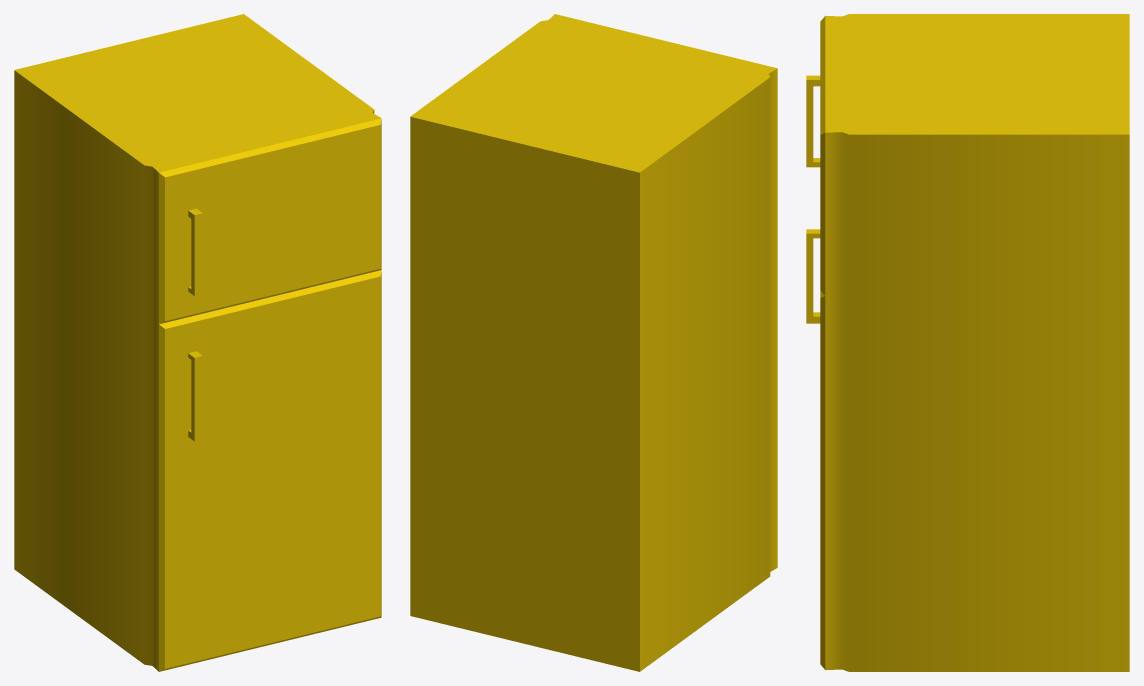
The model's file is Fridge_1.FBX.
3 views of the same model, side by side, from view 1: azimuth 30°, elevation 25°; view 2: azimuth 150°, elevation 25°; view 3: azimuth 270°, elevation 25° (orthographic). The views are drawn at different scales.
Parts seen in each view (by area): view 1: Box002; view 2: Box002; view 3: Box002.
Part boxes in pixels (x1,y1,x2,y2): Box002: [14, 14, 381, 671]; Box002: [410, 14, 777, 671]; Box002: [806, 14, 1129, 671].
Size of the model in its own units: 1.42 by 2.94 by 1.6.
